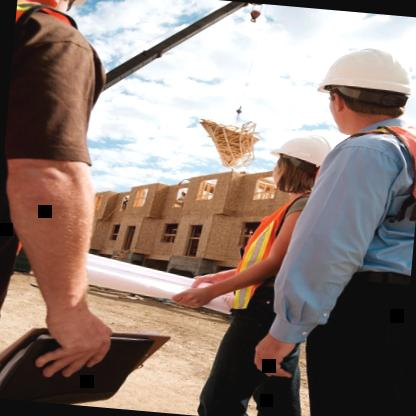helmet: (304, 35, 416, 138), (263, 121, 338, 216)
